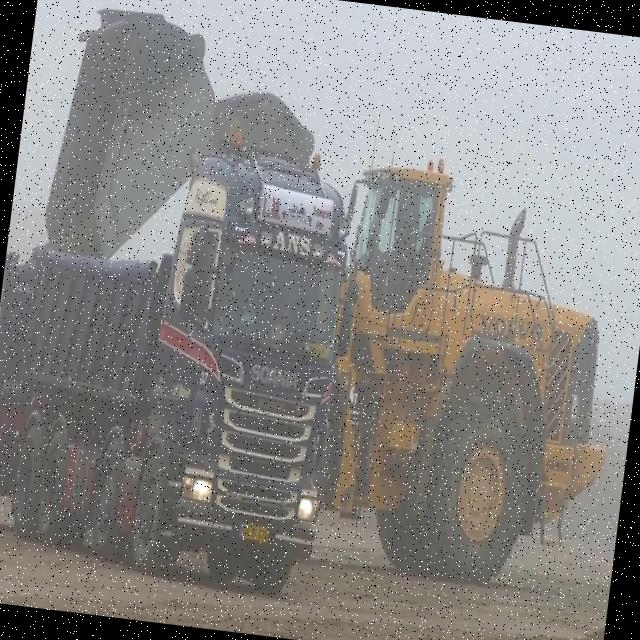Dump Truck: (0, 106, 364, 598)
Loader: (5, 0, 640, 594)
